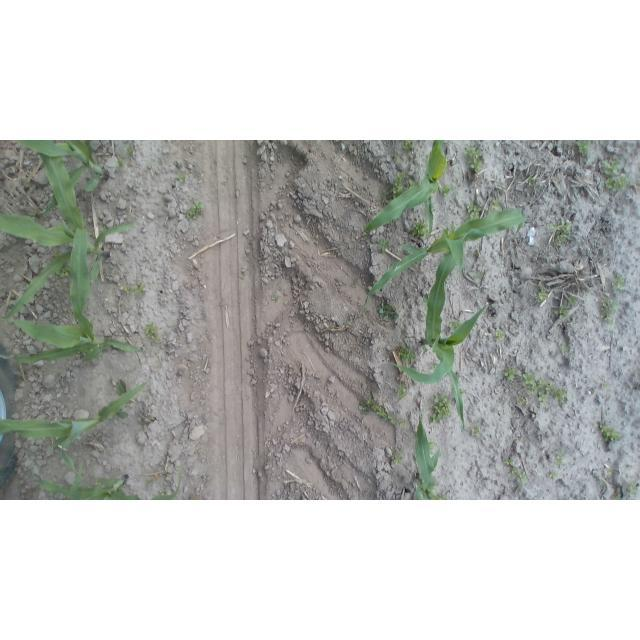Maize: (0, 145, 136, 319), (390, 228, 493, 435), (361, 206, 529, 311), (1, 243, 143, 365), (0, 378, 154, 481), (361, 140, 451, 237), (12, 140, 115, 216), (29, 455, 186, 500), (411, 405, 452, 500)
Weeds: (360, 397, 399, 427), (601, 158, 632, 195), (525, 376, 560, 405), (429, 393, 452, 425), (503, 458, 527, 484), (600, 296, 620, 327), (464, 145, 485, 174), (597, 420, 622, 444), (551, 219, 573, 246), (376, 301, 400, 321), (411, 220, 431, 241), (184, 200, 205, 220), (135, 411, 158, 428), (398, 344, 417, 364), (121, 281, 147, 295), (391, 173, 405, 199), (144, 322, 161, 343), (551, 386, 569, 405), (611, 274, 627, 295), (390, 444, 405, 465), (465, 202, 481, 221), (534, 283, 549, 303), (576, 141, 593, 158), (554, 449, 567, 469), (503, 366, 519, 382), (174, 169, 190, 183), (554, 305, 570, 319), (378, 236, 391, 253), (626, 481, 639, 498), (440, 183, 454, 197), (396, 385, 409, 400), (563, 294, 578, 307), (54, 266, 70, 278), (123, 143, 136, 157), (113, 156, 128, 168), (379, 187, 390, 203), (494, 329, 507, 342), (490, 198, 502, 212), (401, 140, 415, 152), (469, 424, 481, 437), (516, 394, 528, 406), (448, 320, 462, 330), (154, 489, 171, 497), (472, 271, 484, 282), (546, 469, 558, 480), (269, 293, 281, 304), (237, 268, 247, 281), (560, 345, 569, 358), (429, 437, 435, 456), (525, 175, 535, 186), (613, 489, 623, 499), (607, 468, 618, 477), (145, 477, 154, 487), (429, 361, 437, 372), (392, 155, 402, 163), (351, 280, 359, 289), (601, 382, 611, 389), (439, 495, 451, 500), (459, 387, 466, 395), (358, 312, 365, 319), (93, 480, 101, 486)
